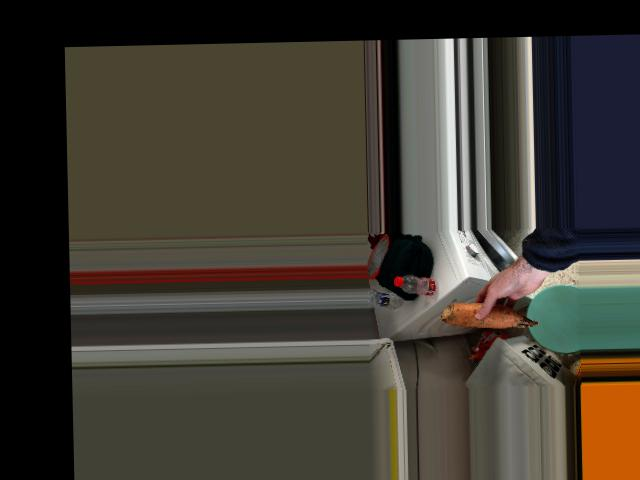sweet_potato: (436, 294, 539, 336)
